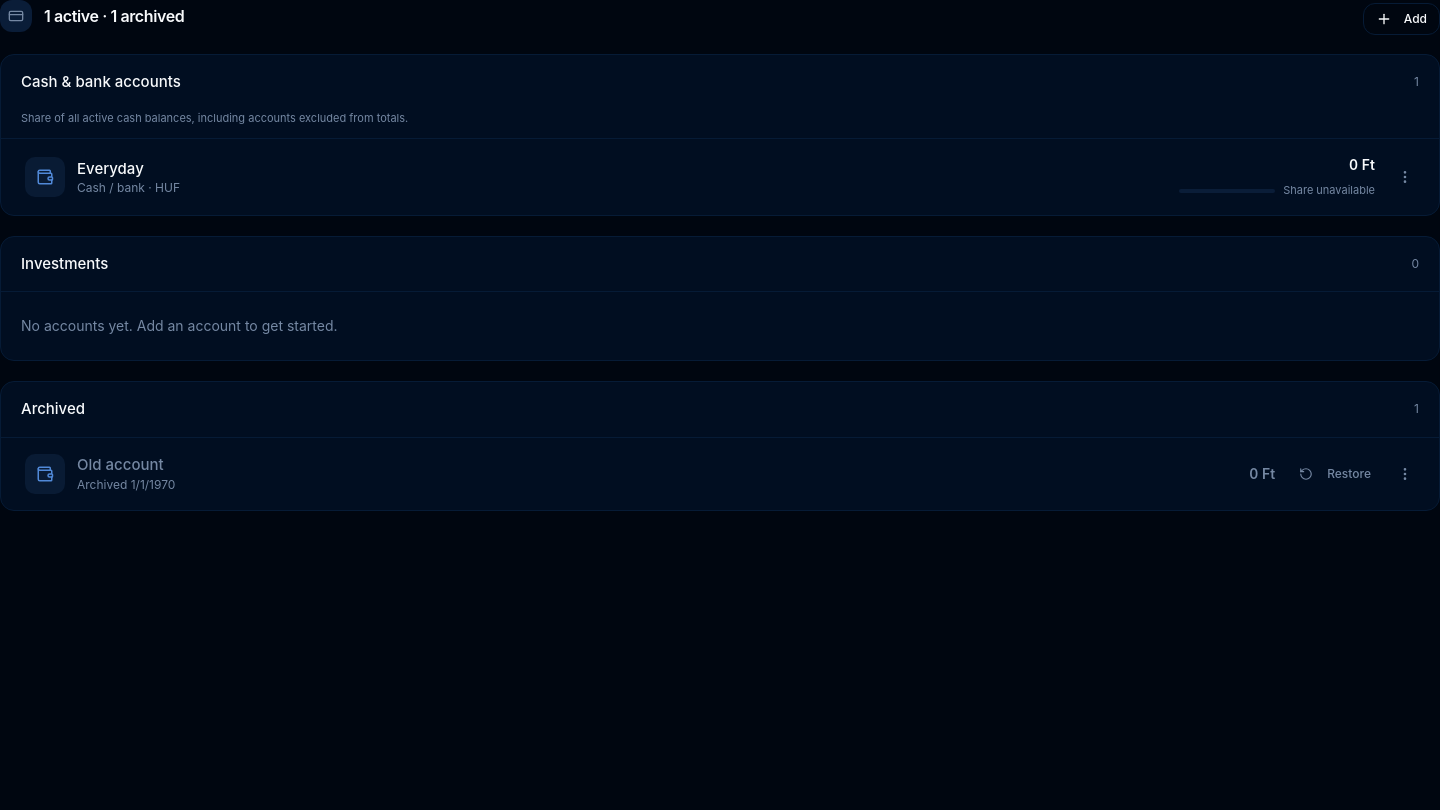
Scenario: dedicated account management › previews signed differences and keeps incomplete balances unsaved
Click the button with aria-label "Edit Everyday". click: (45, 177)
box: [17, 147, 1383, 207]
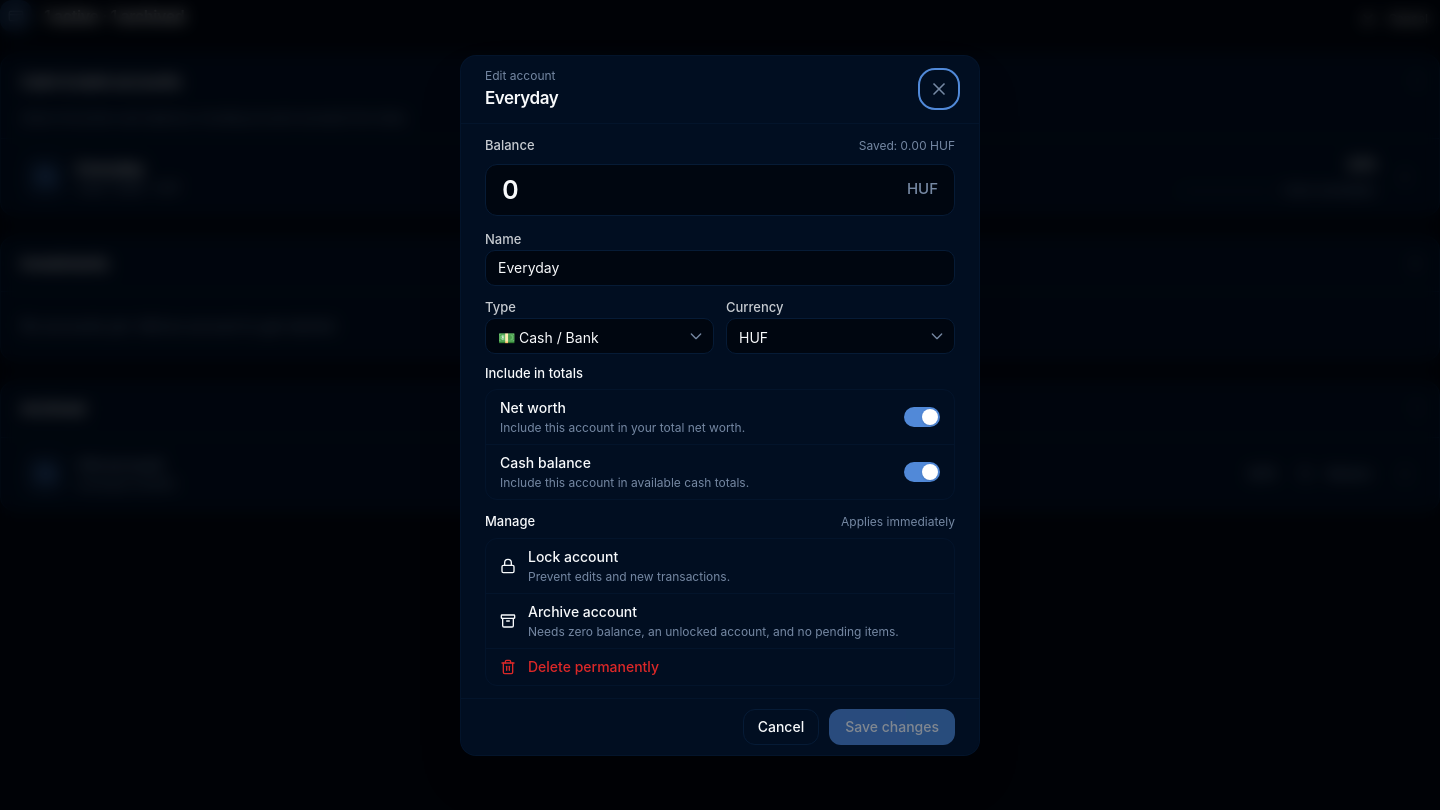
Type "-12,50" into the field labelled "Balance". click: (699, 190)
box: [502, 170, 897, 209]
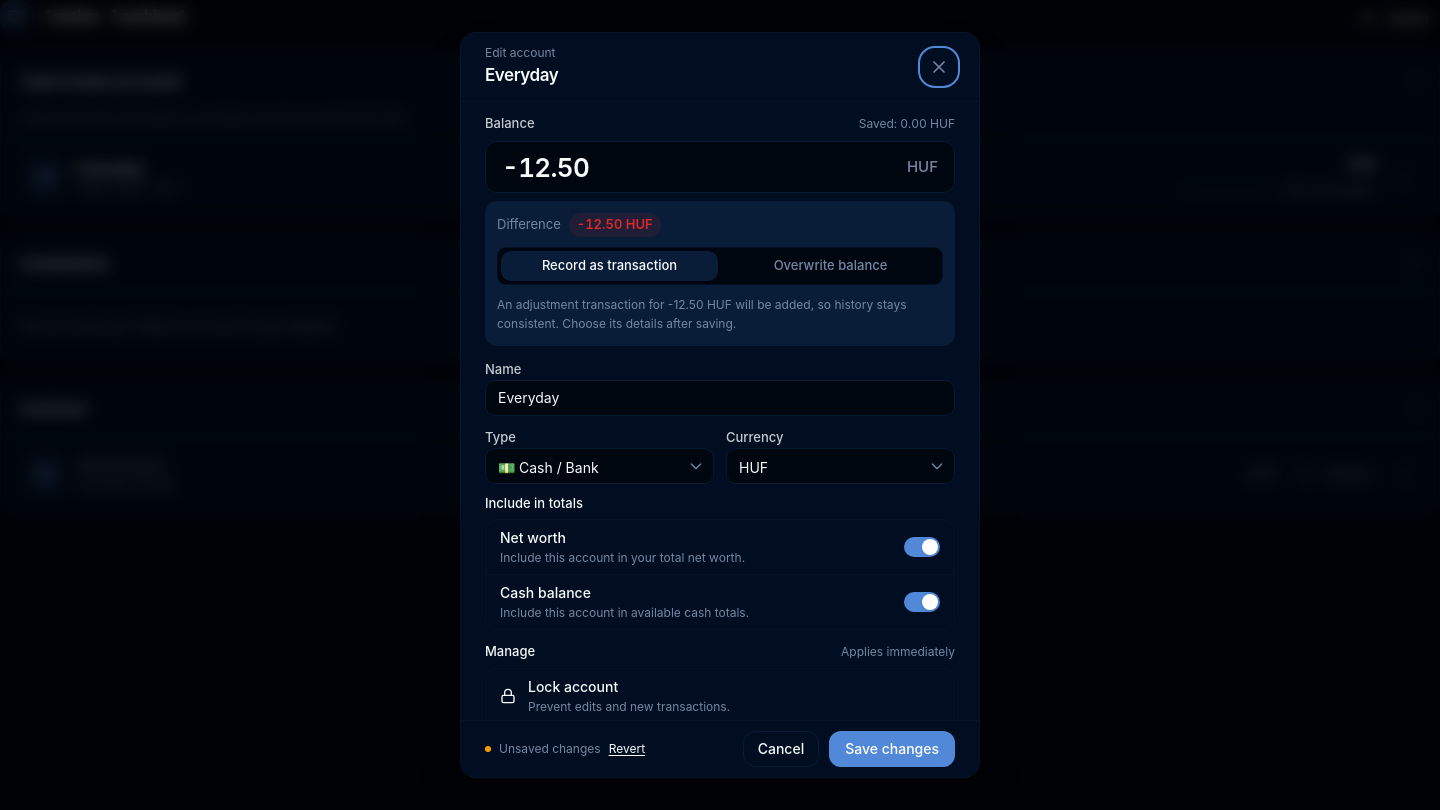
expect the text "-12.50 HUF" is shown: met, box [569, 213, 661, 237]
Replace the text in the field labelled "Balance" with "-". click: (699, 167)
box: [502, 148, 897, 187]
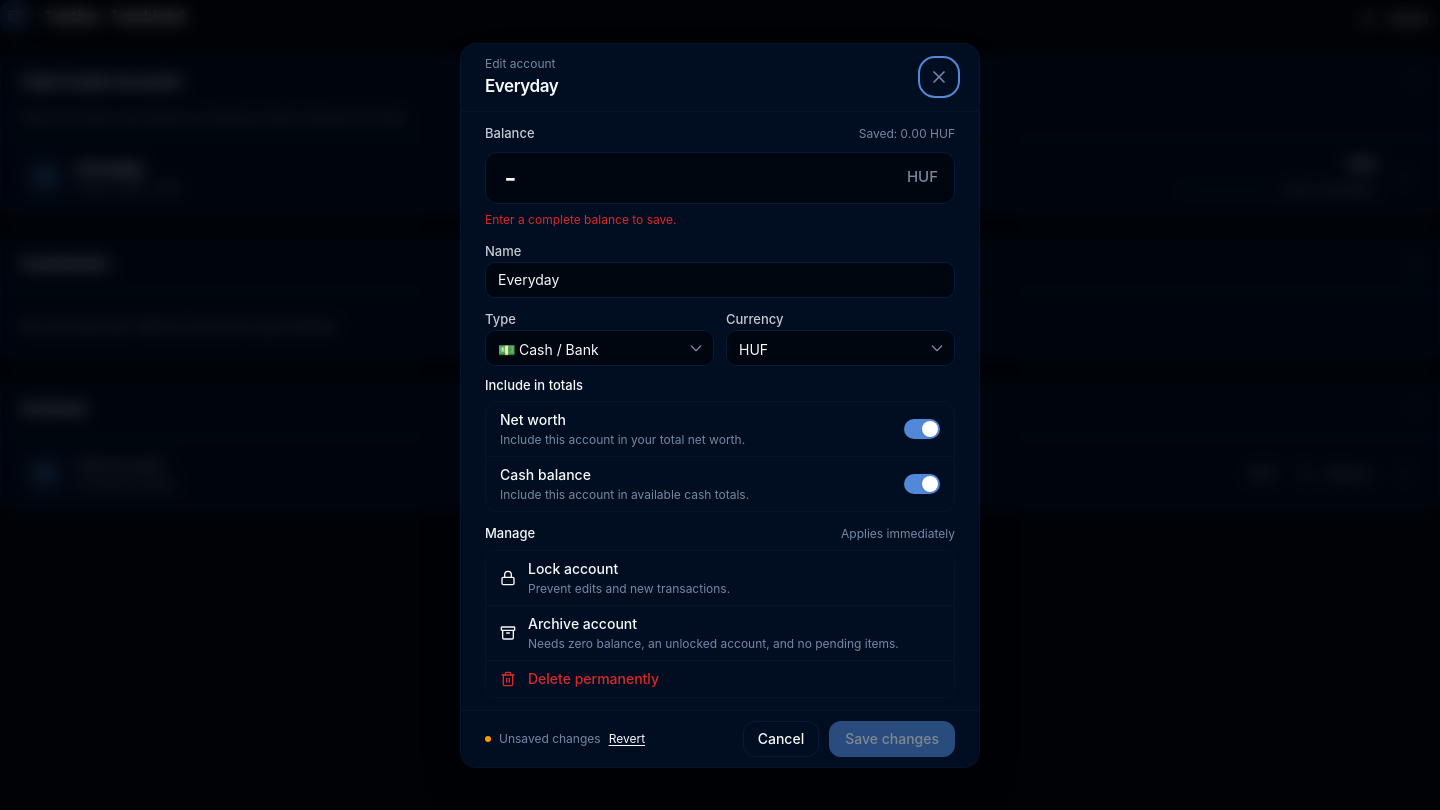
expect the button "Save changes" is disabled: met, box [829, 720, 955, 756]
expect the text "Enter a complete balance to save." is shown: met, box [485, 212, 676, 226]
